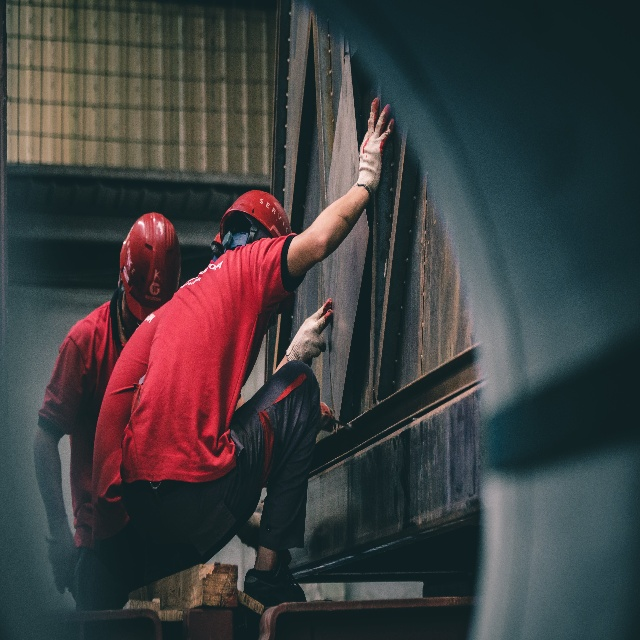Guantes: (351, 94, 393, 196), (285, 299, 333, 365), (45, 512, 79, 596), (320, 400, 337, 433)
